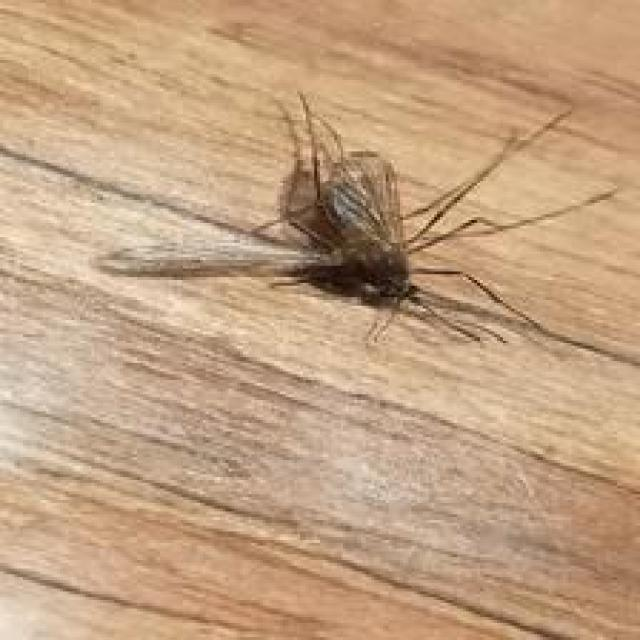Culex: (91, 87, 640, 379)
